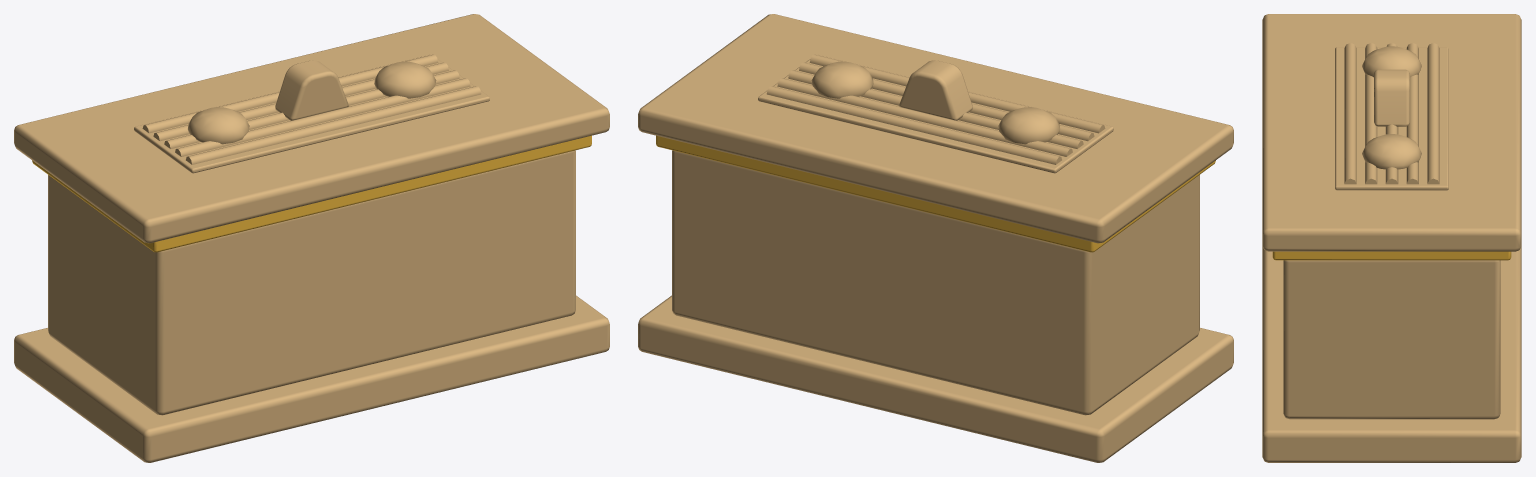
Rendered from P_OfferingTable.fbx.
3 renders of one model, left to right at view 1: azimuth 30°, elevation 25°; view 2: azimuth 150°, elevation 25°; view 3: azimuth 270°, elevation 25°, orthographic. The views are drawn at different scales.
Visible parts, largest first — view 1: P_OfferingTable; view 2: P_OfferingTable; view 3: P_OfferingTable.
Boxes of the visible parts, x1=… form: P_OfferingTable: x1=14, y1=14, x2=609, y2=462; P_OfferingTable: x1=638, y1=14, x2=1233, y2=462; P_OfferingTable: x1=1262, y1=14, x2=1521, y2=462.
Bounding box in the file's own units: 1 × 0.6 × 0.5.
